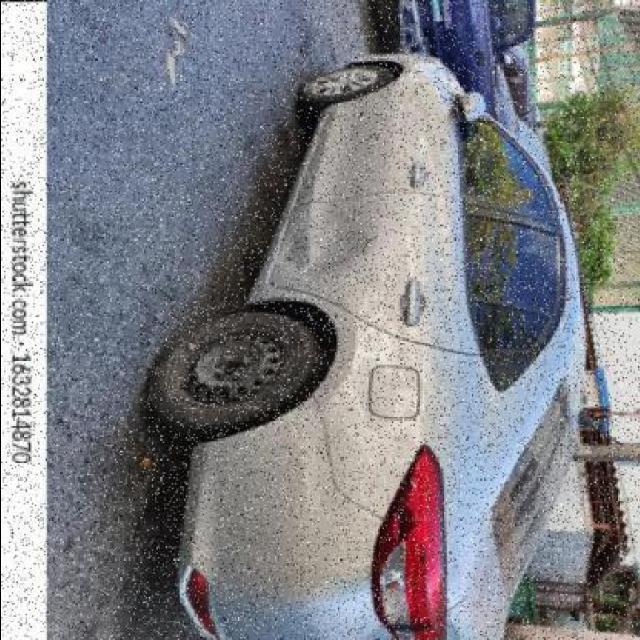doorouter-dent: (291, 194, 460, 344)
